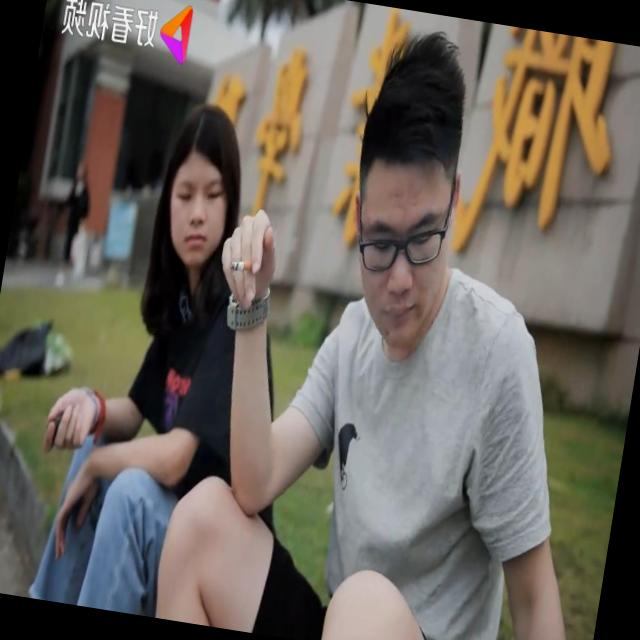cigarette: (224, 249, 262, 288)
